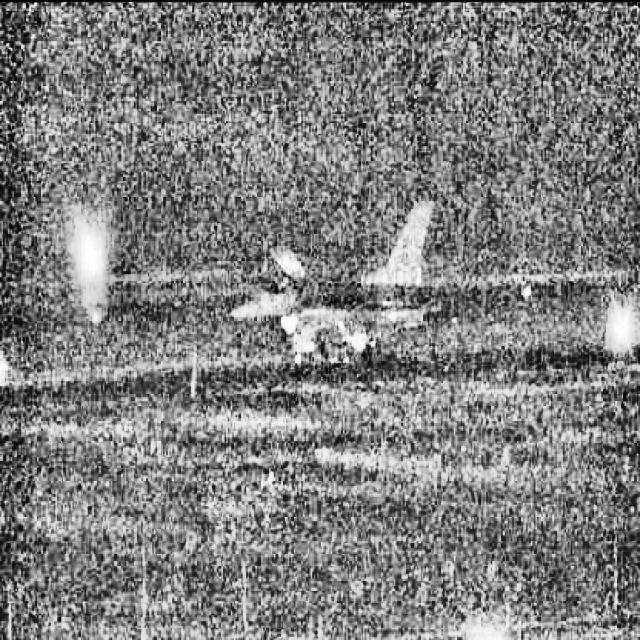F16: (228, 200, 442, 368)
